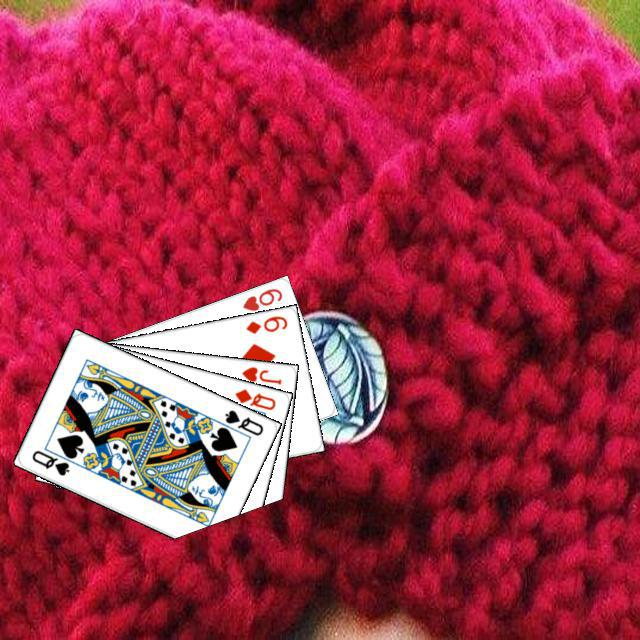6d: (241, 311, 289, 336)
6h: (237, 283, 284, 313)
Jh: (237, 362, 283, 386)
Qd: (230, 384, 277, 412)
Qs: (220, 405, 265, 437), (27, 445, 71, 477)
